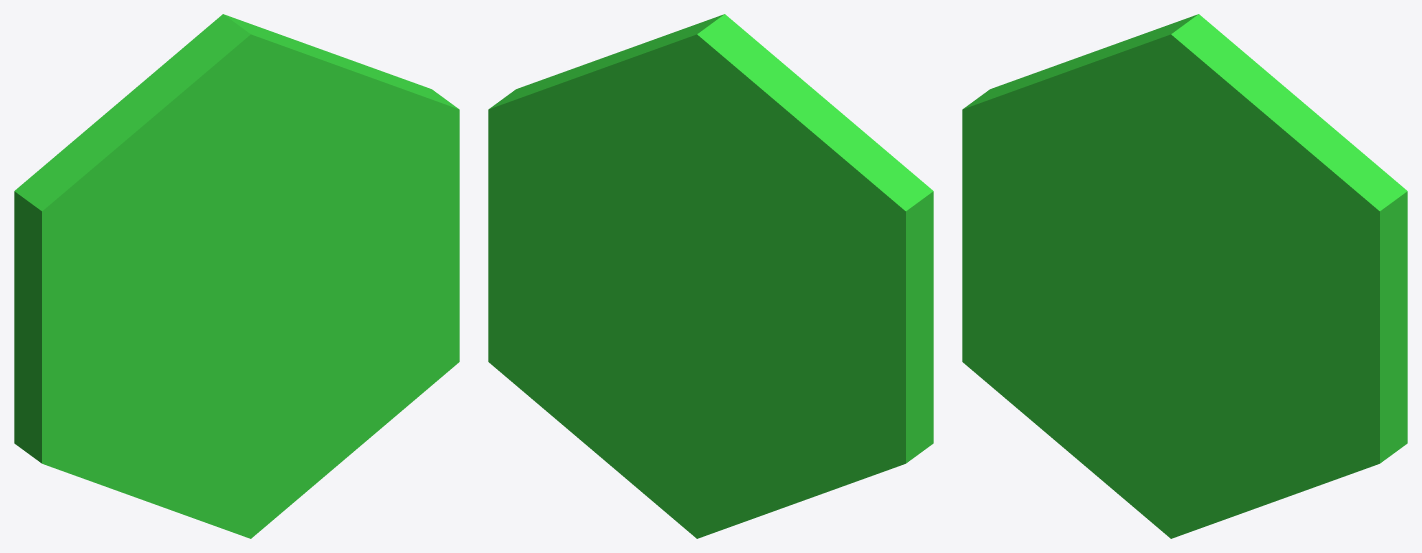
The model's file is grassland-hex.glb.
3 views of the same model, side by side, from view 1: azimuth 30°, elevation 25°; view 2: azimuth 150°, elevation 25°; view 3: azimuth 330°, elevation 25° (orthographic).
Parts seen in each view (by area): view 1: Circle; view 2: Circle; view 3: Circle.
Boxes of the visible parts, x1,y1,x2,y2 form: Circle: [14, 14, 459, 538]; Circle: [488, 14, 933, 538]; Circle: [962, 14, 1407, 538].
Bounding box in the file's own units: 1.73 × 2 × 0.2.
